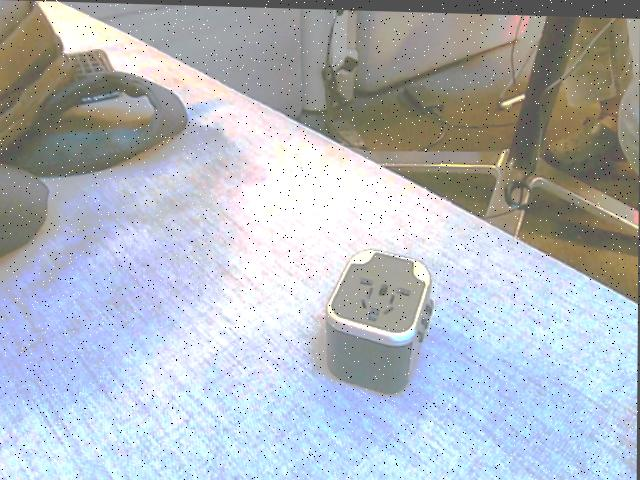adapter: (324, 245, 434, 393)
